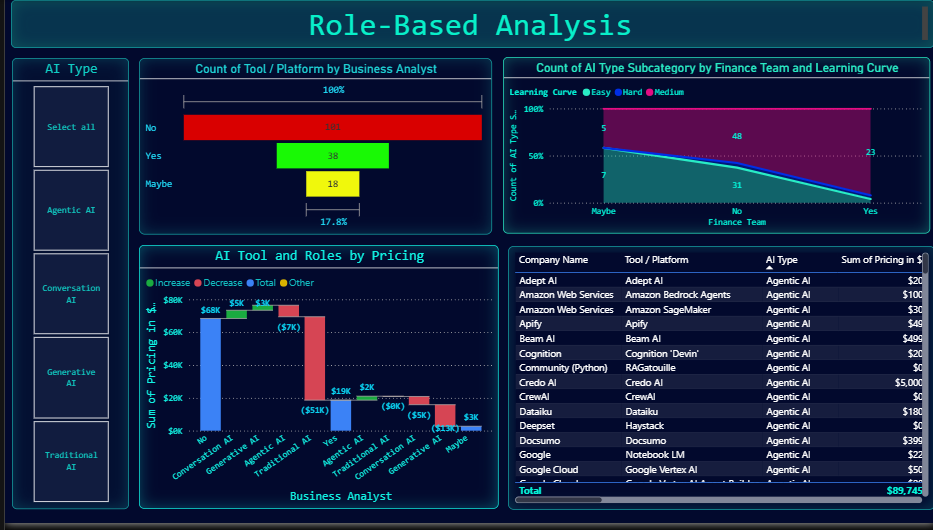

The page's visual inventory and layout, read from the dashboard file:
{"tool":"powerbi","page":{"name":"Role-Based Analysis","canvas":[1280,720],"ordinal":1},"visuals":[{"type":"textbox","box":[8.9,0,1271.1,66.1],"z":0},{"type":"slicer","title":"AI Type","fields":{"Values":["Cleaned Analysis.AI Type"]},"box":[9,80,161.3,620.6],"z":1000},{"type":"funnel","fields":{"Y":["CountNonNull(Cleaned Analysis.Tool / Platform)"],"Category":["Cleaned Analysis.Roles.Brand & Design Team","Cleaned Analysis.Roles.UI/UX","Cleaned Analysis.Roles.Technical Architect","Cleaned Analysis.Roles.Software Developer","Cleaned Analysis.Roles.Social Media Team","Cleaned Analysis.Roles.Scrum Master / Project Manager","Cleaned Analysis.Roles.Sales & Marketing","Cleaned Analysis.Roles.Retail Merchandisers","Cleaned Analysis.Roles.QA","Cleaned Analysis.Roles.Product Managers","Cleaned Analysis.Roles.HR/Recruters","Cleaned Analysis.Roles.Game Designers"]},"box":[184.5,79.4,485.8,242.9],"z":2000},{"type":"tableEx","fields":{"Values":["Cleaned Analysis.Company Name","Cleaned Analysis.Tool / Platform","Cleaned Analysis.AI Type","Sum(Cleaned Analysis.Pricing in $)","Cleaned Analysis.Roles.Brand & Design Team","Cleaned Analysis.Roles.UI/UX","Cleaned Analysis.Roles.Technical Architect","Cleaned Analysis.Roles.Software Developer","Cleaned Analysis.Roles.Social Media Team","Cleaned Analysis.Roles.Scrum Master / Project Manager","Cleaned Analysis.Roles.Sales & Marketing","Cleaned Analysis.Roles.Retail Merchandisers"]},"box":[691.6,338.1,588.4,362.6],"z":3000},{"type":"waterfallChart","title":"AI Tool and Roles by  Pricing  ","fields":{"Category":["Cleaned Analysis.Roles.Brand & Design Team","Cleaned Analysis.Roles.UI/UX","Cleaned Analysis.Roles.Technical Architect","Cleaned Analysis.Roles.Software Developer","Cleaned Analysis.Roles.Social Media Team","Cleaned Analysis.Roles.Scrum Master / Project Manager","Cleaned Analysis.Roles.Sales & Marketing","Cleaned Analysis.Roles.Retail Merchandisers","Cleaned Analysis.Roles.QA","Cleaned Analysis.Roles.Product Managers","Cleaned Analysis.Roles.HR/Recruters","Cleaned Analysis.Roles.Game Designers"],"Y":["Sum(Cleaned Analysis.Pricing in $)"],"Breakdown":["Cleaned Analysis.AI Type"]},"box":[184.1,337.9,495.2,362.9],"z":4000},{"type":"hundredPercentStackedAreaChart","fields":{"Category":["Cleaned Analysis.Roles.Brand & Design Team","Cleaned Analysis.Roles.UI/UX","Cleaned Analysis.Roles.Technical Architect","Cleaned Analysis.Roles.Software Developer","Cleaned Analysis.Roles.Social Media Team","Cleaned Analysis.Roles.Scrum Master / Project Manager","Cleaned Analysis.Roles.Sales & Marketing","Cleaned Analysis.Roles.Retail Merchandisers","Cleaned Analysis.Roles.QA","Cleaned Analysis.Roles.Product Managers","Cleaned Analysis.Roles.HR/Recruters","Cleaned Analysis.Roles.Game Designers"],"Y":["Count(Cleaned Analysis.AI Type Subcategory)"],"Series":["Cleaned Analysis.Learning Curve"]},"box":[685.2,78.7,588.4,242.6],"z":5000}]}

Visuals, with their boxes in screenshot pixels (x1, y1, x2, y2), scaled from the page's 1280x720 canvas onto the 933x530 screenshot:
textbox: region(6, 0, 932, 49)
"AI Type" slicer: region(7, 59, 124, 516)
funnel - CountNonNull(Cleaned Analysis.Tool / Platform) x Cleaned Analysis.Roles.Brand & Design Team: region(134, 58, 489, 237)
tableEx - Cleaned Analysis.Company Name x Cleaned Analysis.Tool / Platform: region(504, 249, 932, 516)
"AI Tool and Roles by  Pricing  " waterfallChart: region(134, 249, 495, 516)
hundredPercentStackedAreaChart - Cleaned Analysis.Roles.Brand & Design Team x Cleaned Analysis.Roles.UI/UX: region(499, 58, 928, 237)
